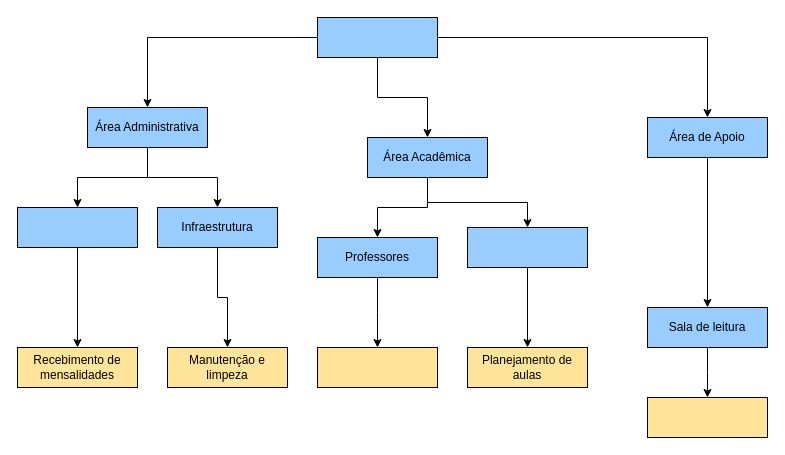
Some shapes in this 785 by 455 pixel diagram are drawn without their labels. Here are the shapes that lost their labels. From the top down, the centre of each, then its label:
At (x=377, y=37): "Escola Máximo (Diretoria)".
At (x=77, y=227): "Financeiro".
At (x=527, y=247): "Coordenação Pedagógica".
At (x=377, y=367): "Ensino Médio".
At (x=707, y=417): "Livros didáticos".
